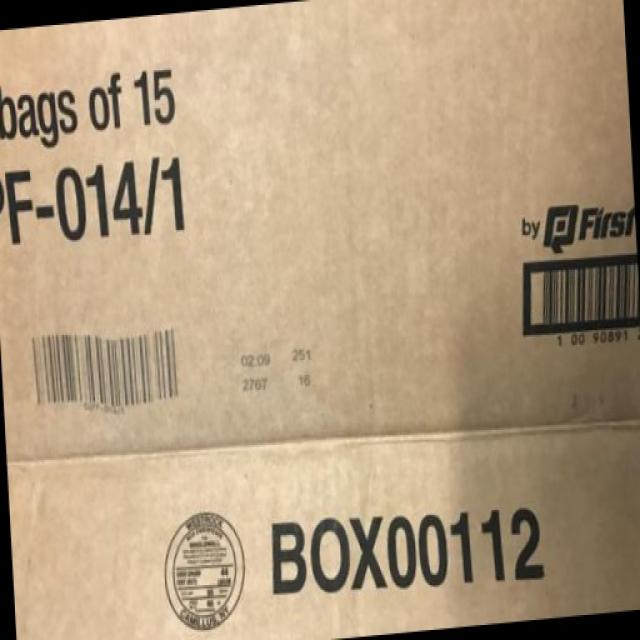carton: (5, 28, 362, 399)
